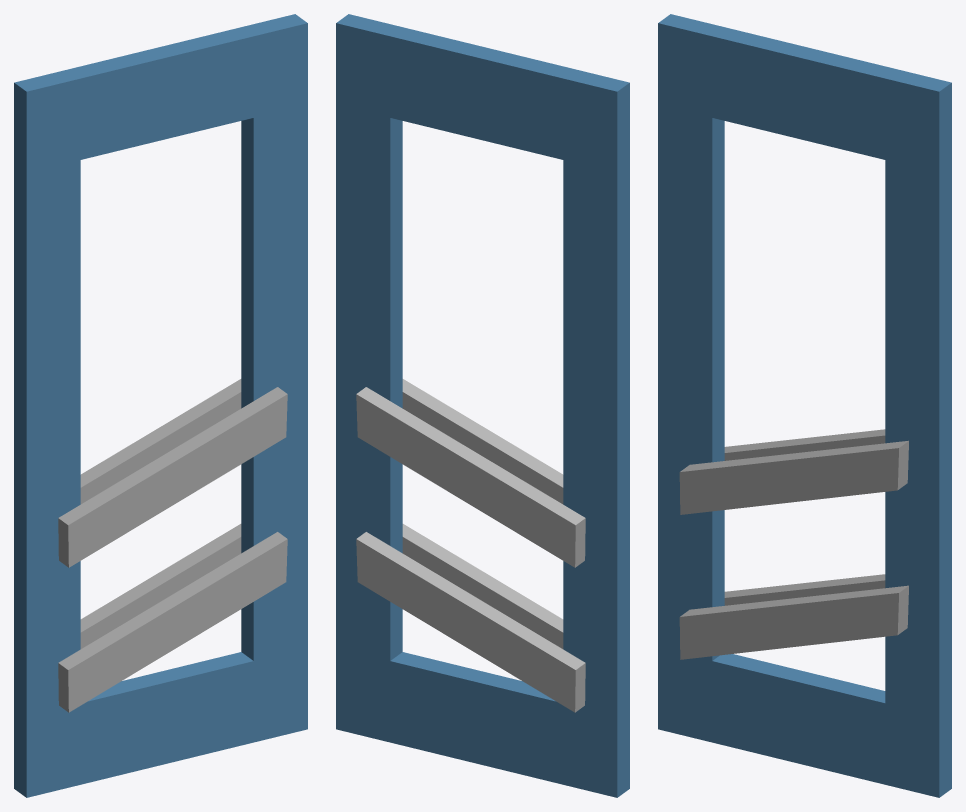
Rendered from door.obj.
The picture shows the model from 3 angles, left to right: view 1: azimuth 30°, elevation 25°; view 2: azimuth 150°, elevation 25°; view 3: azimuth 330°, elevation 25°; orthographic projection.
Parts seen in each view (by area): view 1: door; view 2: door; view 3: door.
Boxes of the visible parts, x1,y1,x2,y2 form: door: [14, 14, 307, 797]; door: [336, 14, 629, 797]; door: [658, 14, 951, 797].
Bounding box in the file's own units: 1.62 × 3.9 × 0.326.
